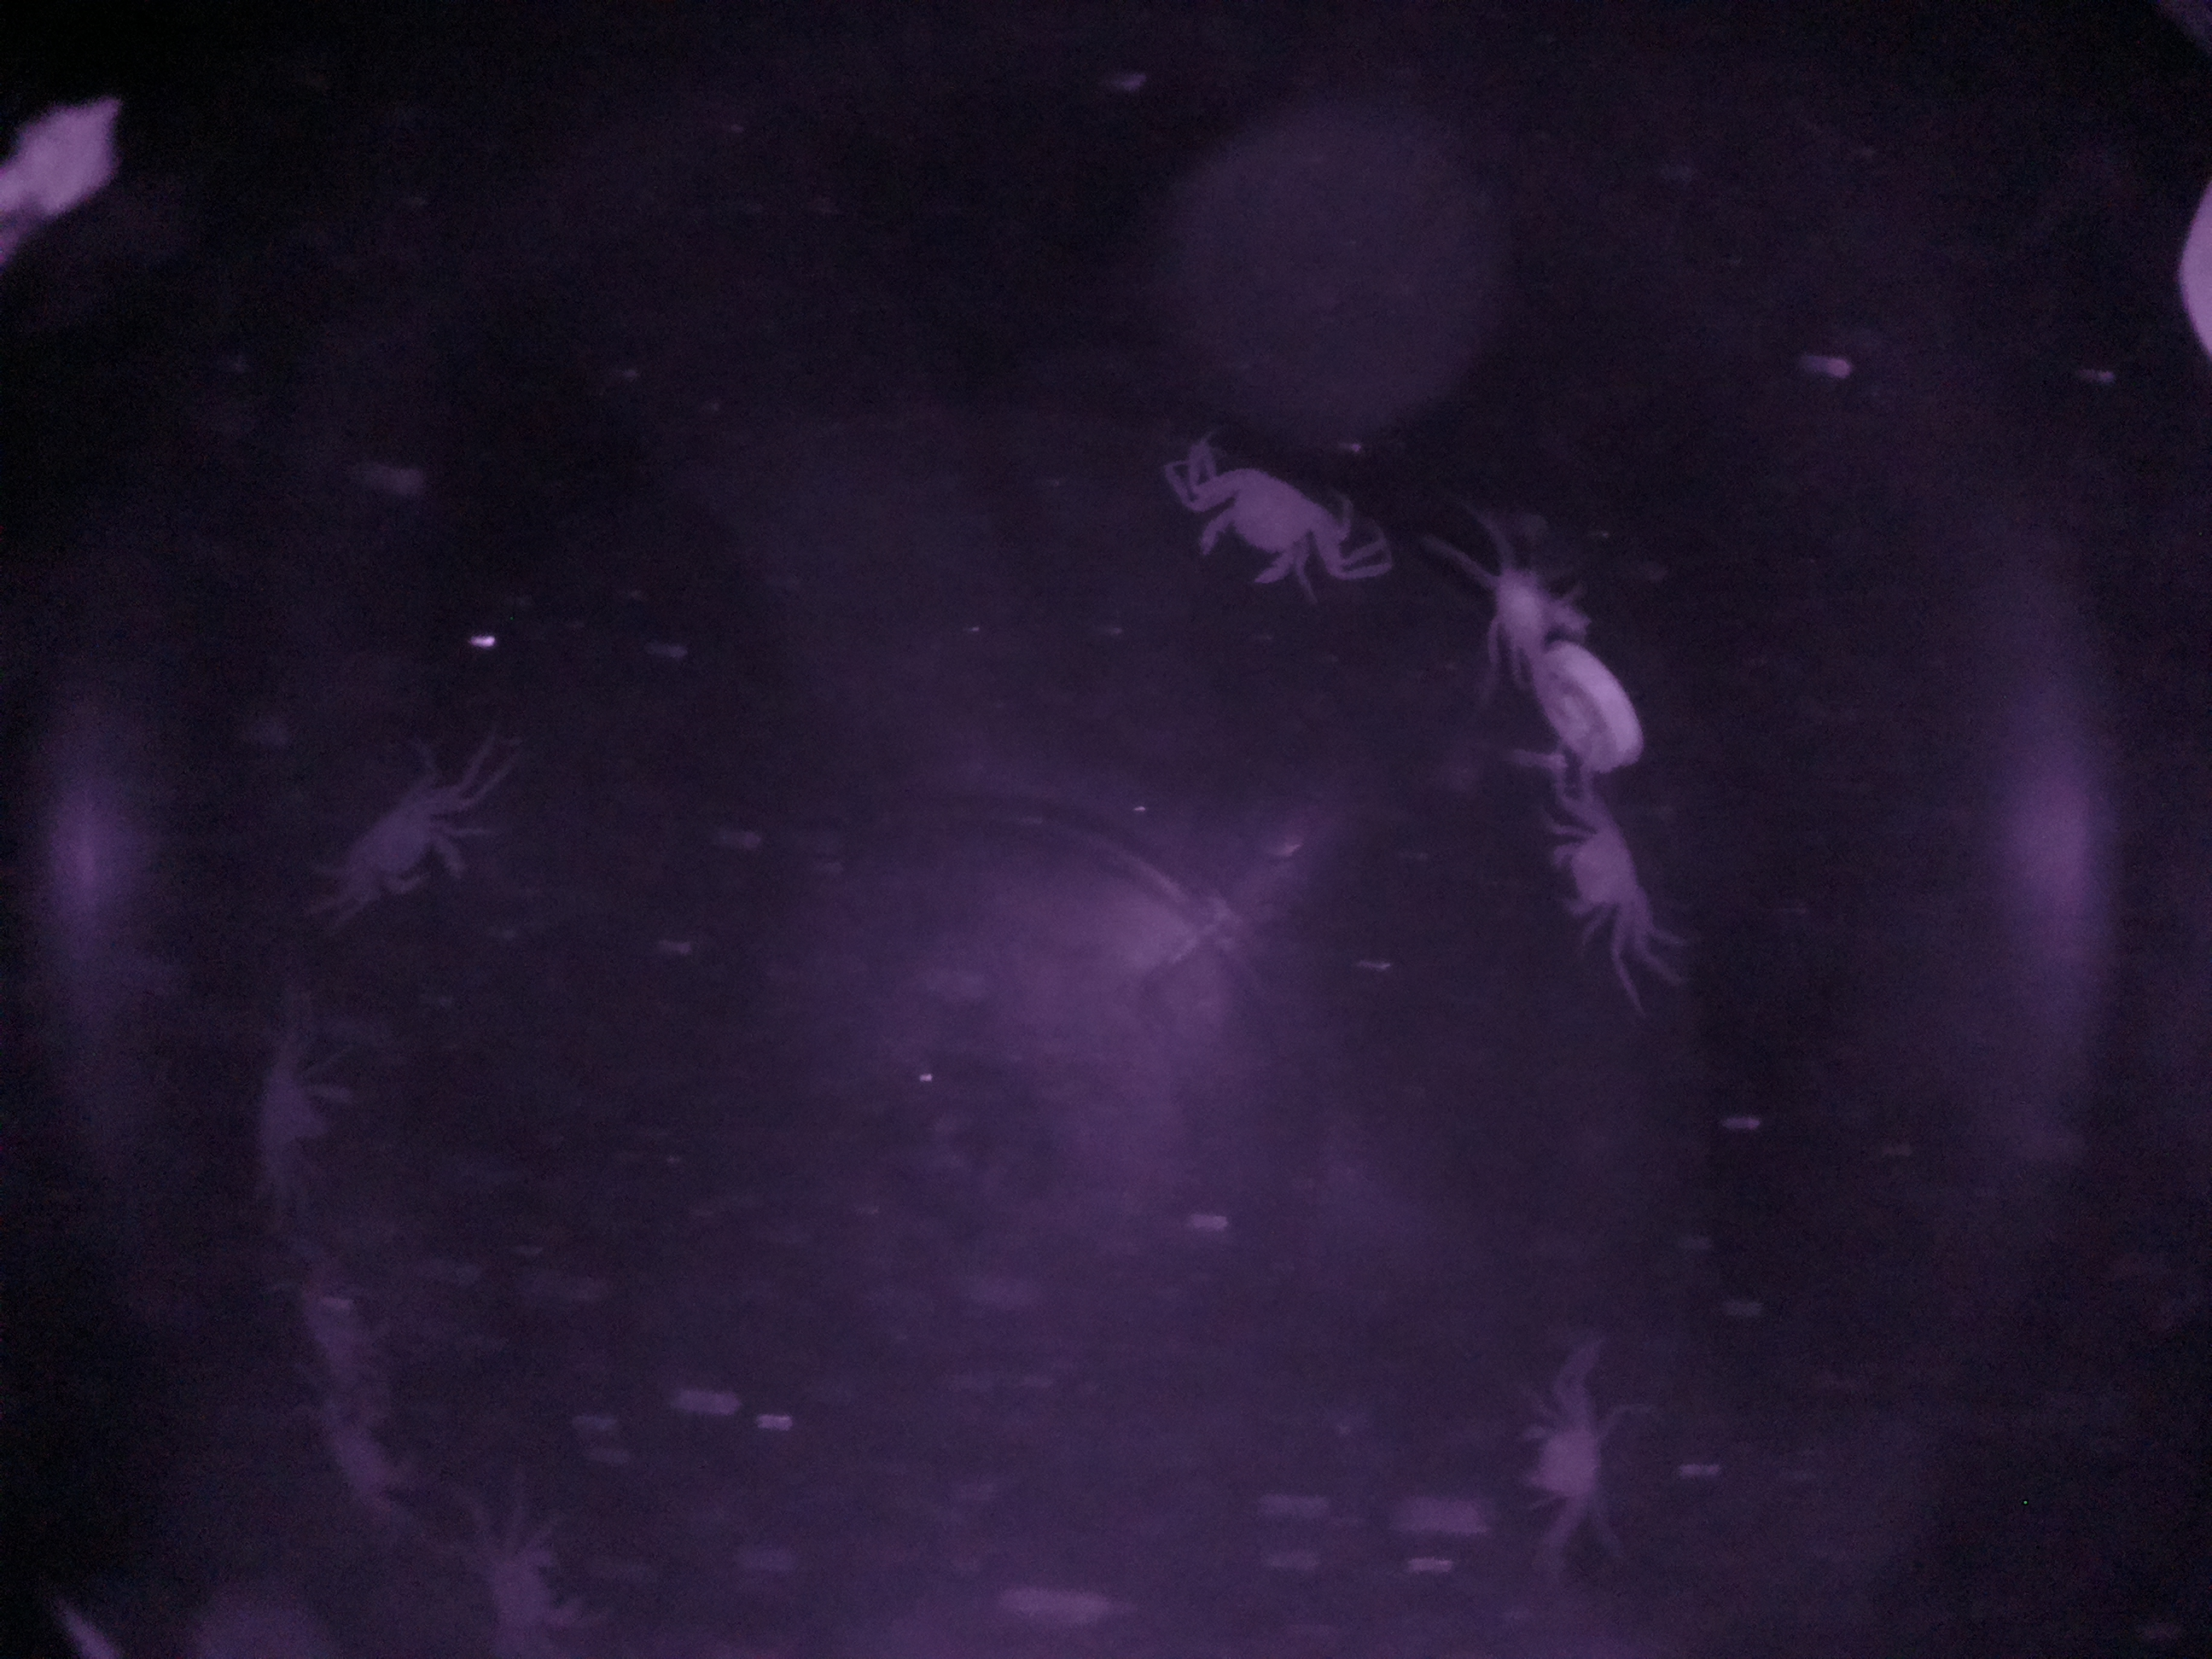Crab: (308, 739, 510, 939), (1538, 758, 1691, 986), (1174, 451, 1343, 615), (1496, 1373, 1660, 1540)
